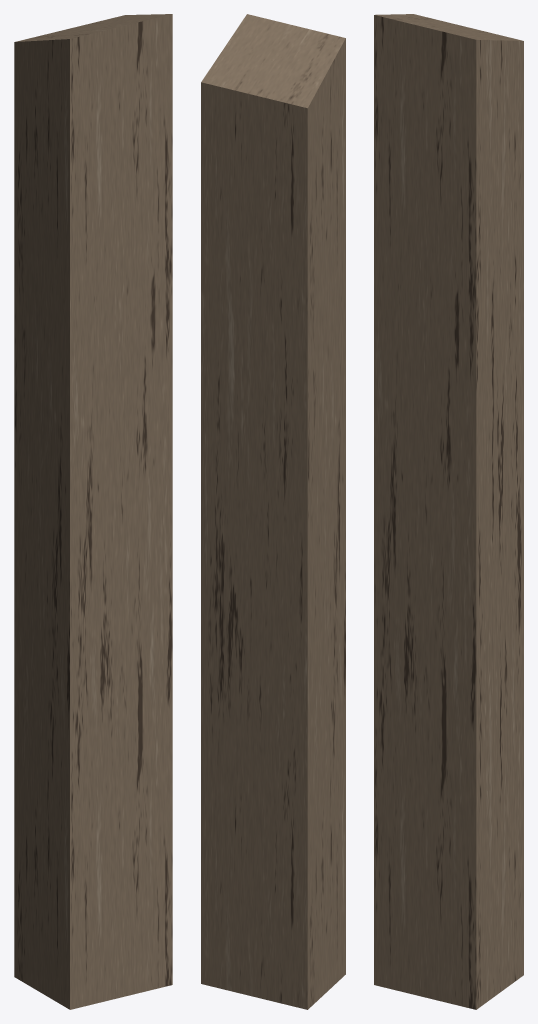
File: fence_splitrail_line_post.gltf
The picture shows the model from 3 angles, left to right: view 1: azimuth 30°, elevation 25°; view 2: azimuth 150°, elevation 25°; view 3: azimuth 330°, elevation 25°; orthographic projection. The views are drawn at different scales.
Parts seen in each view (by area): view 1: fence_splitrail_line_post; view 2: fence_splitrail_line_post; view 3: fence_splitrail_line_post.
Part boxes in pixels (x1=…): fence_splitrail_line_post: x1=14, y1=14, x2=172, y2=1009; fence_splitrail_line_post: x1=201, y1=14, x2=345, y2=1009; fence_splitrail_line_post: x1=374, y1=14, x2=523, y2=1009.
Size of the model in its own units: 0.1609 by 1.35 by 0.12.
1 material, 1 textured.
